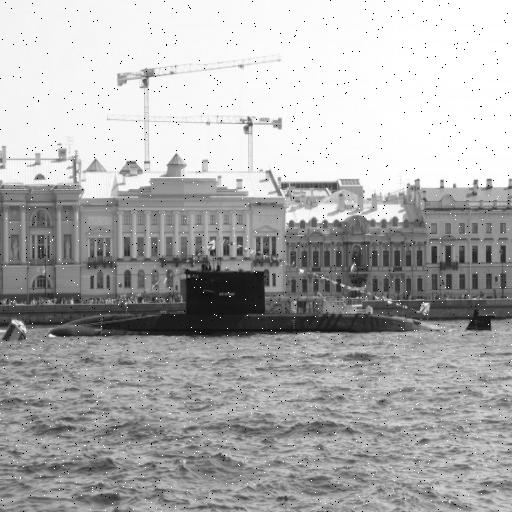submarine: (47, 276, 497, 340)
